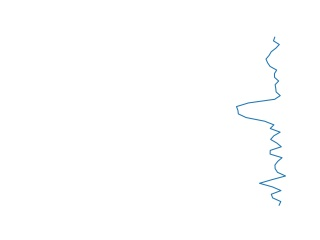interdistributaryEstuary: (228, 36, 294, 205)
